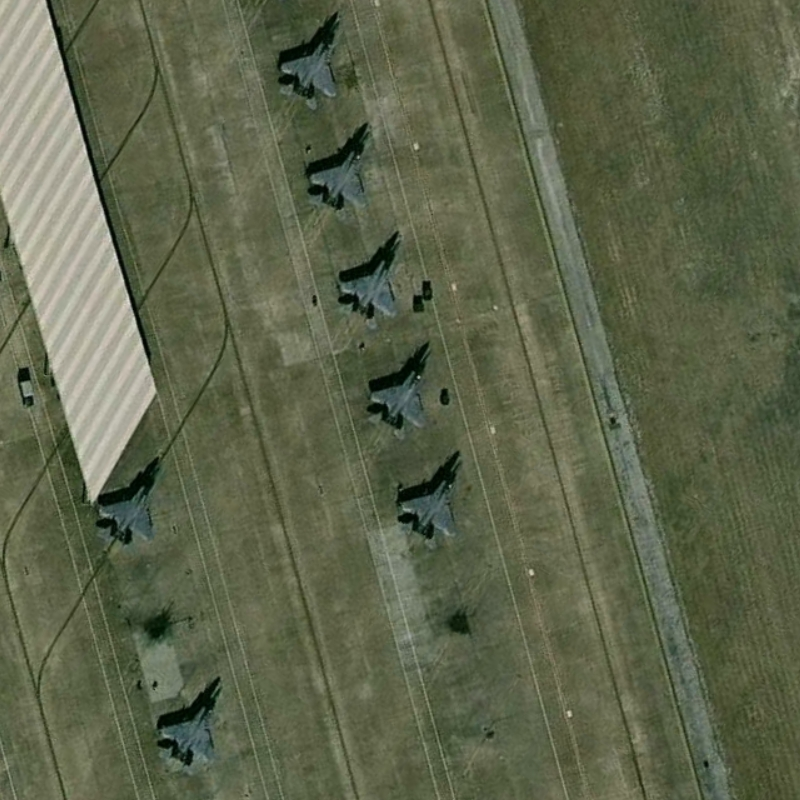A13: (362, 341, 441, 443), (330, 233, 409, 334), (304, 123, 379, 228), (151, 682, 229, 781), (271, 14, 347, 114), (392, 454, 466, 554), (91, 453, 166, 551)
